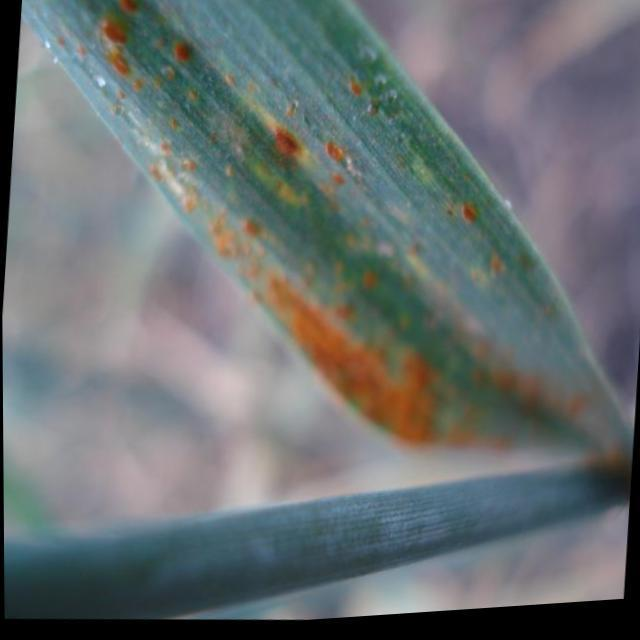Stem Rust: (19, 0, 632, 496)
